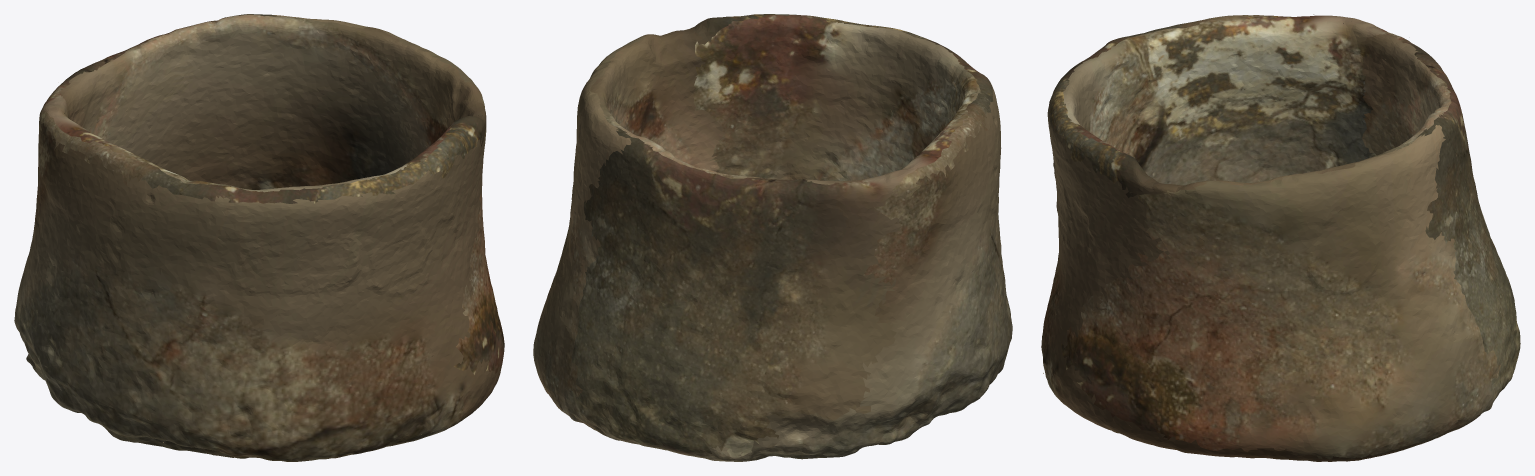
3 views of the same model, side by side, from view 1: azimuth 30°, elevation 25°; view 2: azimuth 150°, elevation 25°; view 3: azimuth 270°, elevation 25° (orthographic). The views are drawn at different scales.
Visible parts, largest first — view 1: Object_0; view 2: Object_0; view 3: Object_0.
Boxes of the visible parts, <box> form: Object_0: <box>14,14,504,461</box>; Object_0: <box>533,14,1012,461</box>; Object_0: <box>1041,14,1520,461</box>.
Bounding box in the file's own units: 2.21 × 1.48 × 2.23.
